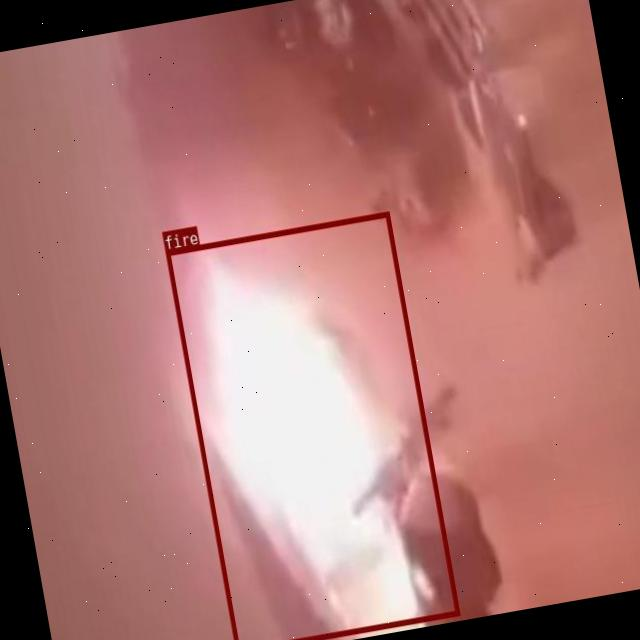fire: (164, 210, 459, 640)
